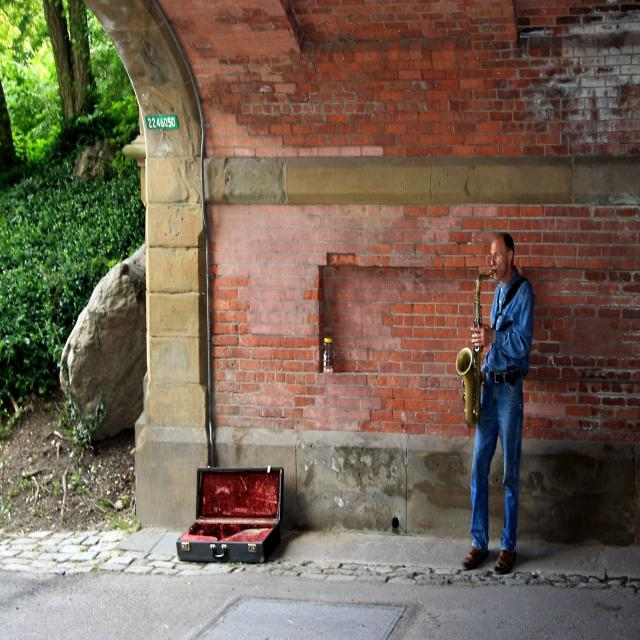saxophone: (455, 270, 495, 428)
